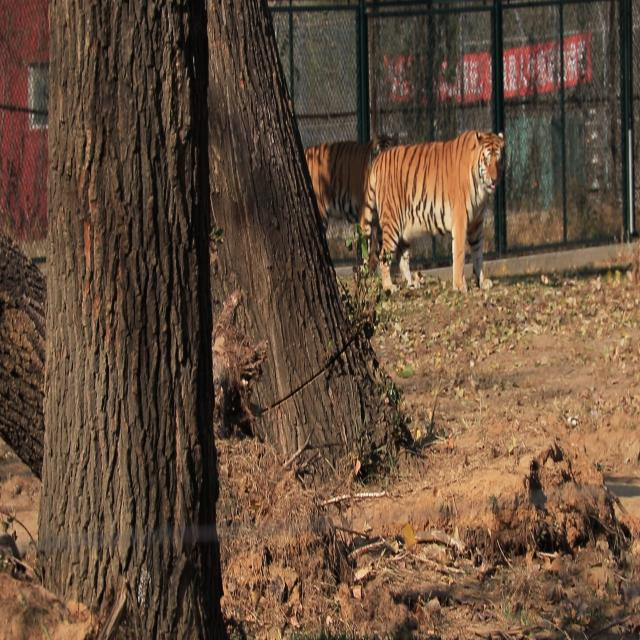Tiger: (355, 121, 525, 314), (294, 109, 396, 231)
